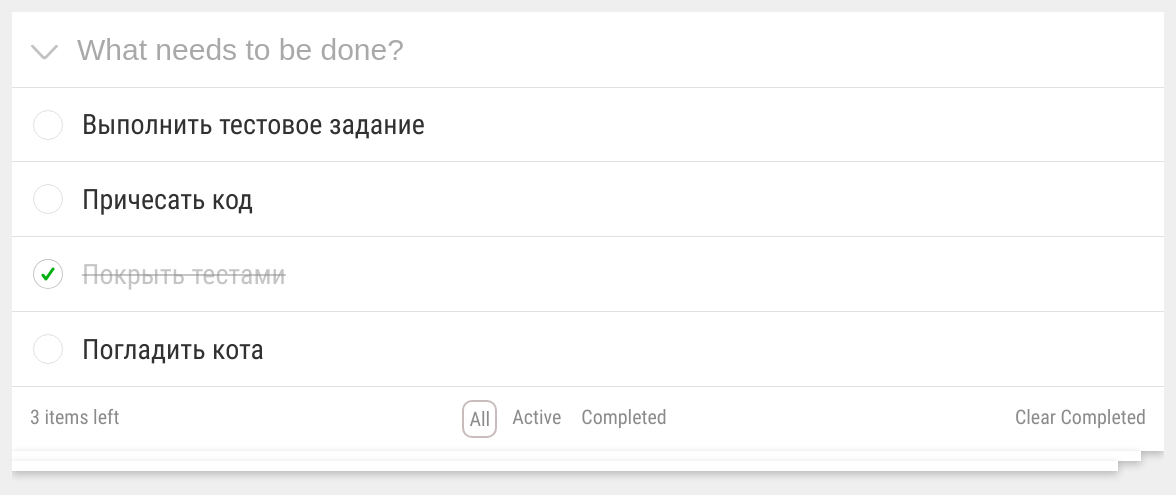
Test: Проверка работоспособности приложения › Удаление выполненных задач
Check: the number of elements with test id "task" is 4, box [12,87,1164,162]; [12,162,1164,237]; [12,237,1164,312]; [12,312,1164,387]
Click the text with test id "clear" at (1080, 419), box [1010,400,1151,438]
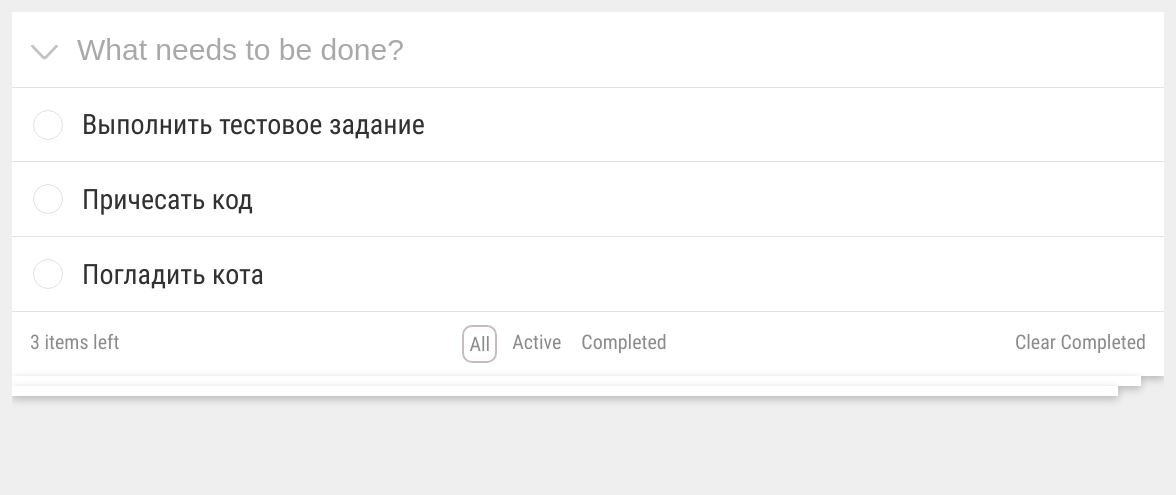
Check: the number of elements with test id "task" is 3, box [12,87,1164,162]; [12,162,1164,237]; [12,237,1164,312]
